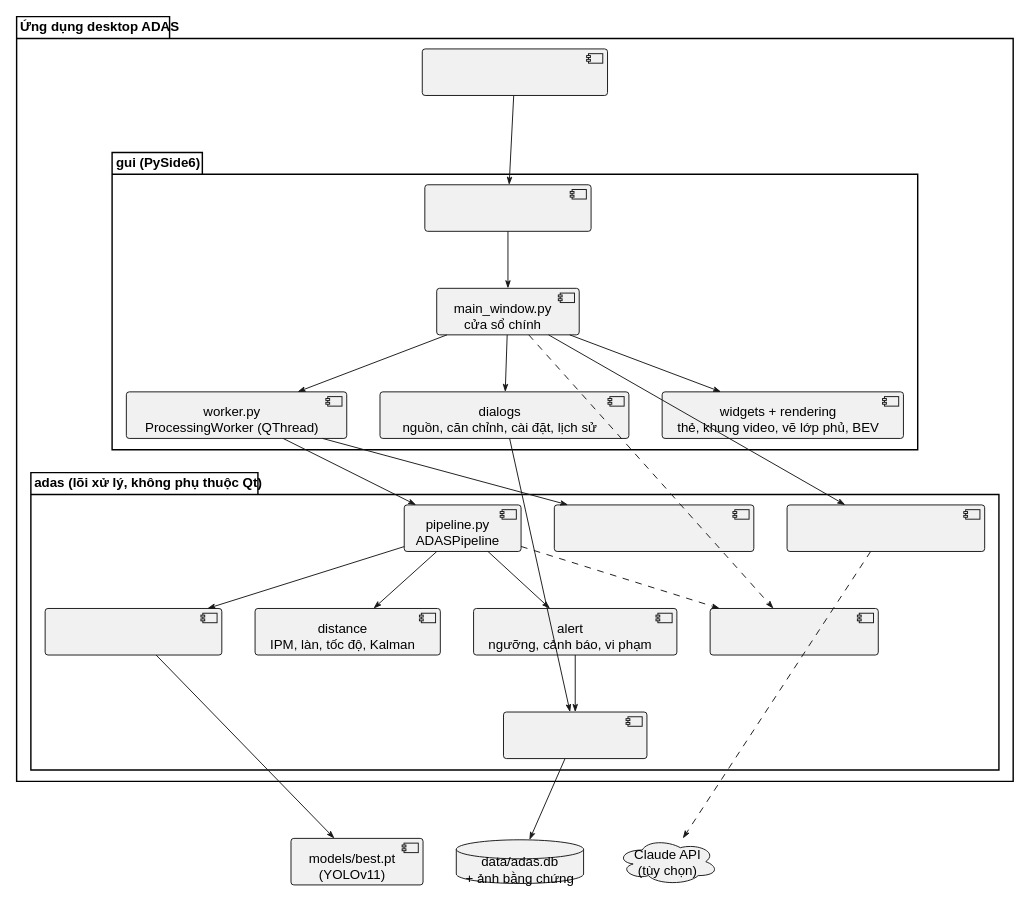
Some shapes in this 1031 by 903 pixel diagram are drawn without their labels. The shapes that lost their labels are listed below. From the top down, each one's centre as x and y in pixels, then its label:
the point at 514,71: main.py (đọc tham số dòng lệnh)
the point at 507,207: app.py khởi tạo QApplication
the point at 653,527: stream nguồn video, camera, ảnh
the point at 885,527: assistant Trợ lý AI (offline / Claude)
the point at 133,631: detection YOLOv11, bám vết mẫu
the point at 793,631: config.py, paths.py cấu hình dùng chung
the point at 575,735: storage Database (SQLite)
